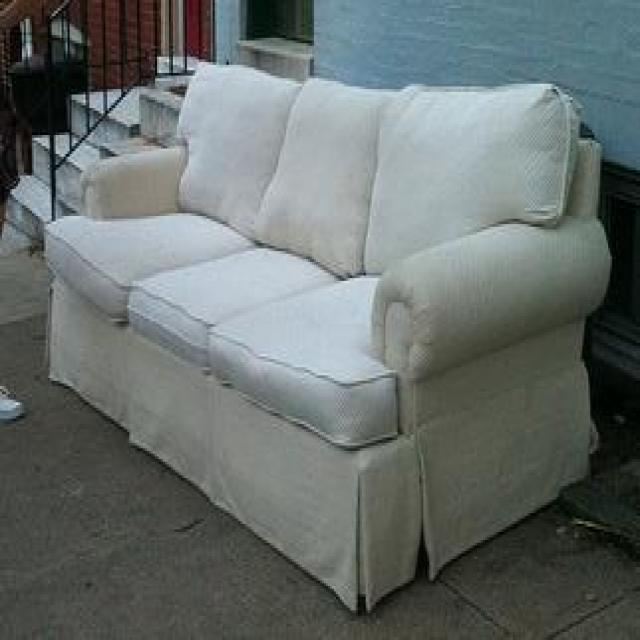sofa: (42, 57, 612, 616)
